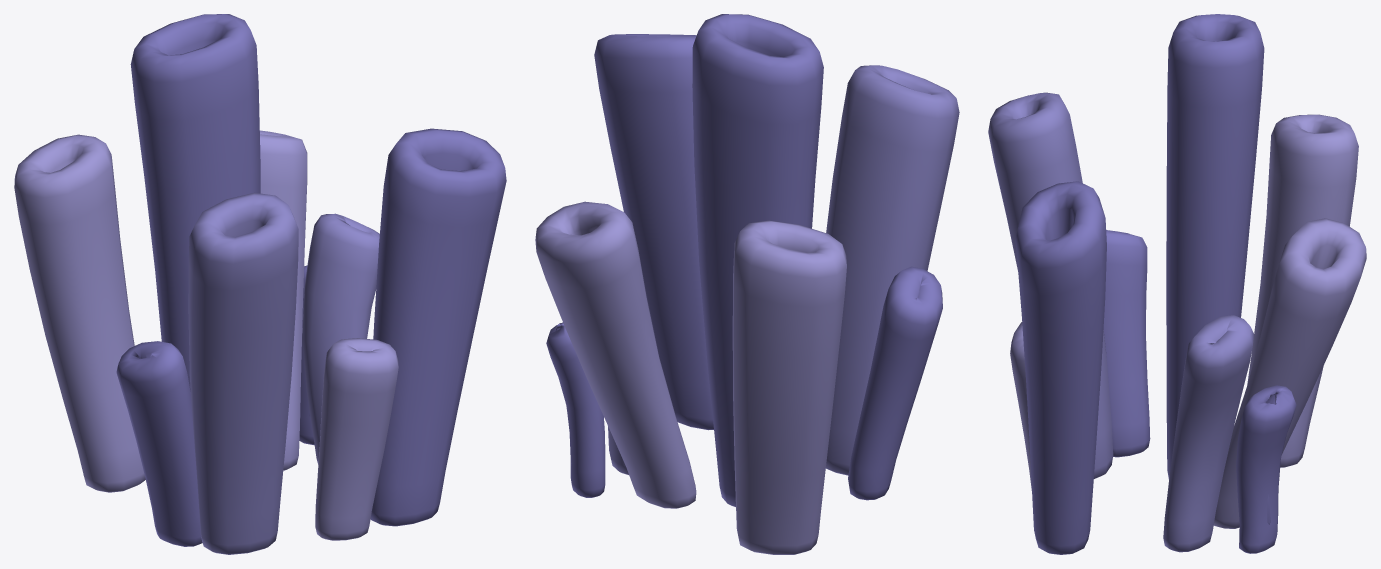
File: Coral_D_01.fbx
3 renders of one model, left to right at view 1: azimuth 30°, elevation 25°; view 2: azimuth 150°, elevation 25°; view 3: azimuth 270°, elevation 25°, orthographic. The views are drawn at different scales.
Visible parts, largest first — view 1: Coral_D_01_LOD0; view 2: Coral_D_01_LOD0; view 3: Coral_D_01_LOD0.
Part boxes in pixels (box(x1,y1,x2,y2)): Coral_D_01_LOD0: box(14, 14, 506, 554); Coral_D_01_LOD0: box(535, 14, 959, 554); Coral_D_01_LOD0: box(988, 14, 1366, 554).
Size of what is drawn, in the model's own units: 393 by 488 by 366.
